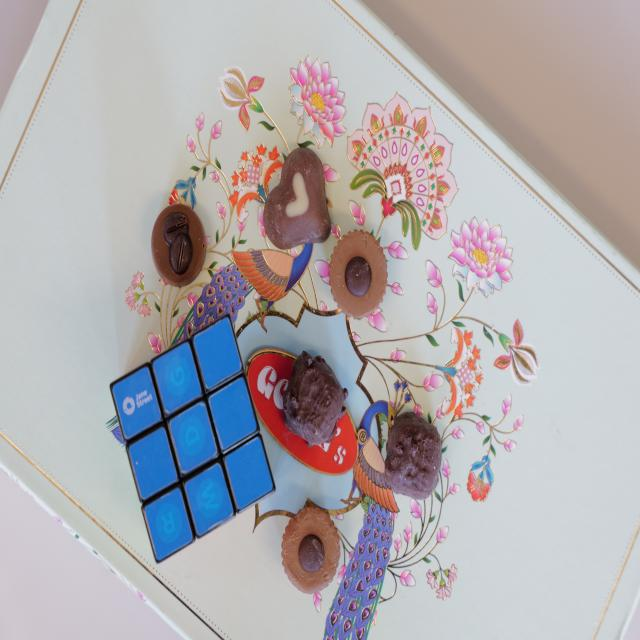Arabia: (152, 203, 204, 284)
Noblesse: (332, 225, 387, 319), (282, 504, 340, 593)
Passion_au_lait: (266, 147, 332, 250)
Tentation_noir: (282, 350, 346, 446), (383, 409, 442, 496)
